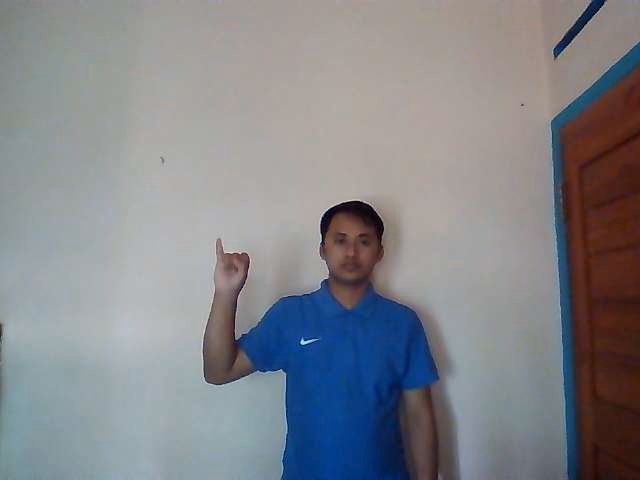I: (212, 236, 251, 293)
